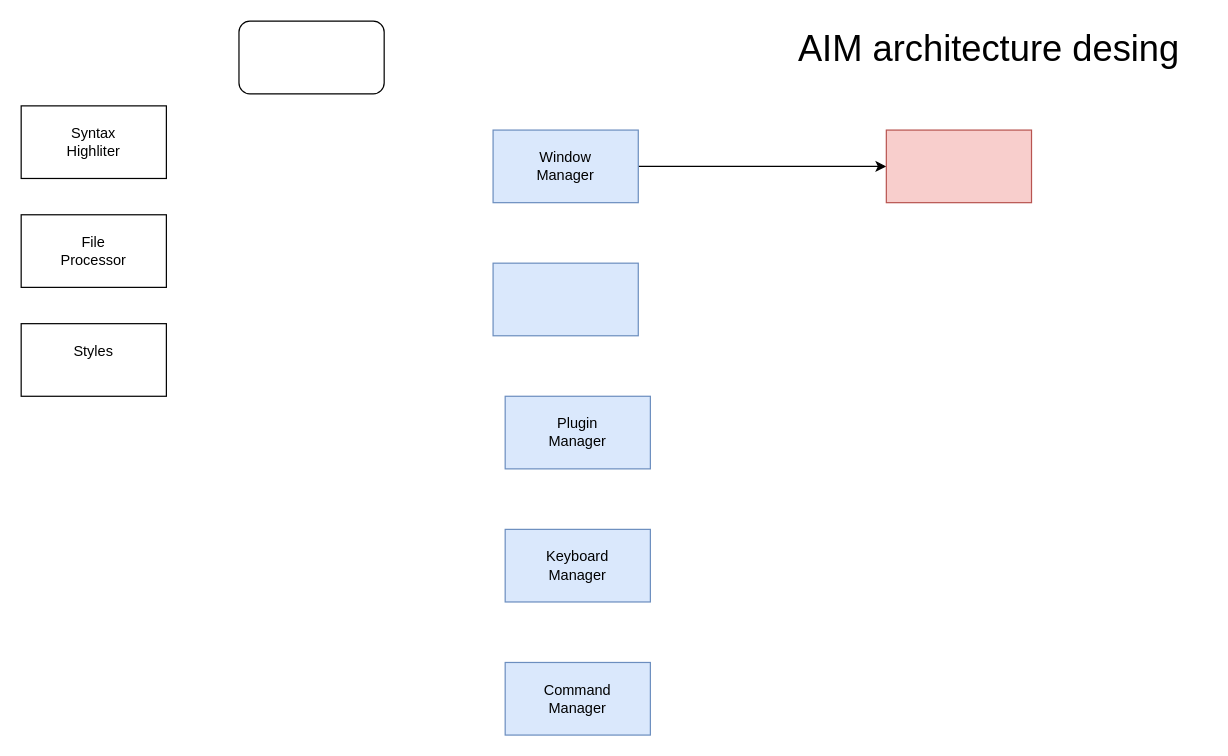
Some shapes in this 1228 by 756 pixel diagram are drawn without their labels. The shapes that lost their labels are listed below. From the top down, each one's centre as x and y in pixels, then its label:
the point at 311,57: Layout
the point at 958,166: Application
the point at 565,299: Config Manager
